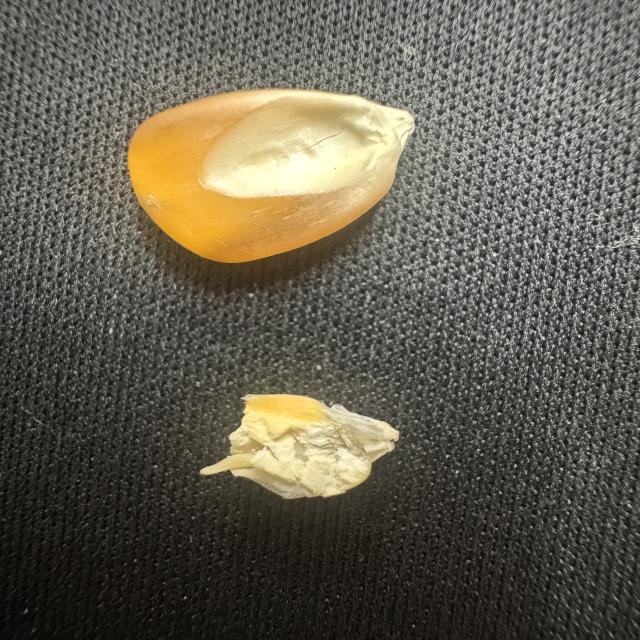Bad-Seed: (186, 389, 412, 501)
Good-Seed: (117, 81, 424, 272)
